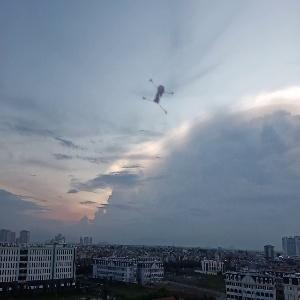drone: (136, 71, 191, 126)
